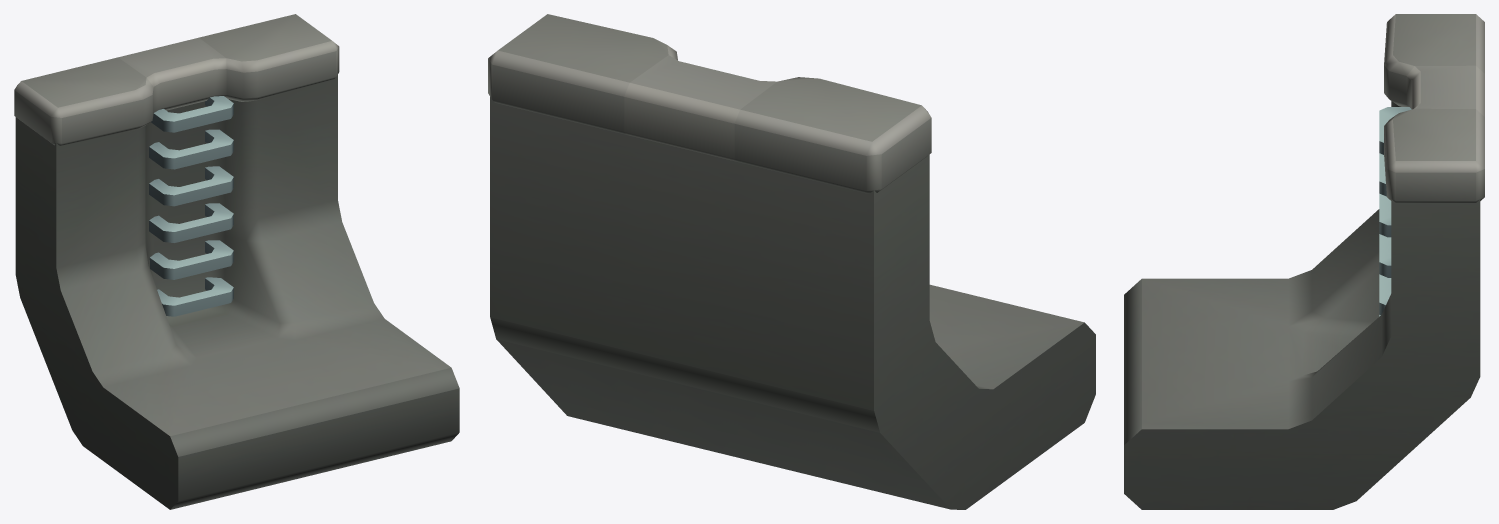
Rendered from canal_wall_section_ladder.fbx.
3 views of the same model, side by side, from view 1: azimuth 30°, elevation 25°; view 2: azimuth 150°, elevation 25°; view 3: azimuth 270°, elevation 25° (orthographic). The views are drawn at different scales.
Parts seen in each view (by area): view 1: canal_wall_section_ladder; view 2: canal_wall_section_ladder; view 3: canal_wall_section_ladder.
Part boxes in pixels (bbox=[...]): canal_wall_section_ladder: bbox=[14, 14, 459, 509]; canal_wall_section_ladder: bbox=[488, 14, 1095, 509]; canal_wall_section_ladder: bbox=[1124, 14, 1484, 509].
Bounding box in the file's own units: 410 × 430 × 405.
